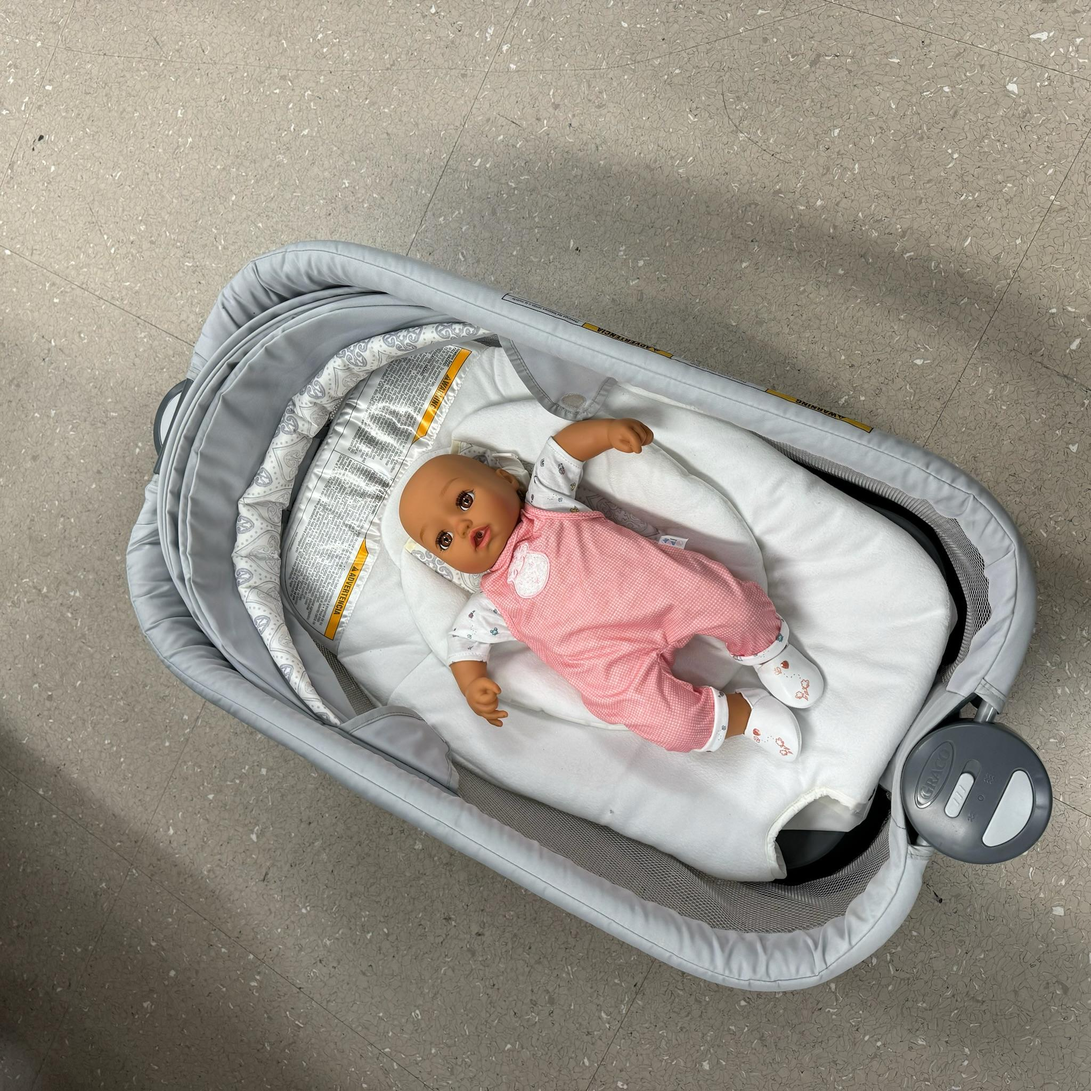baby: (378, 401, 856, 784)
